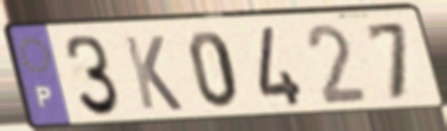0: (185, 29, 241, 112)
2: (304, 21, 371, 108)
3: (63, 33, 124, 120)
4: (256, 23, 306, 110)
7: (363, 19, 414, 103)
K: (120, 33, 186, 113)
